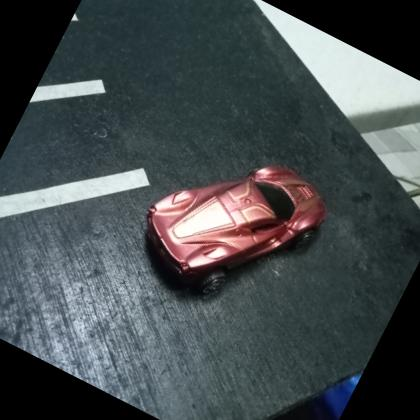Car: (122, 117, 342, 333)
